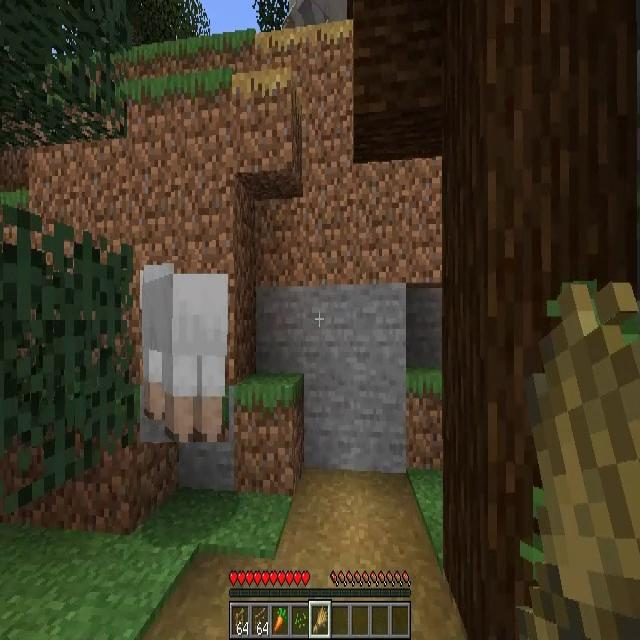sheep: (140, 260, 229, 442)
